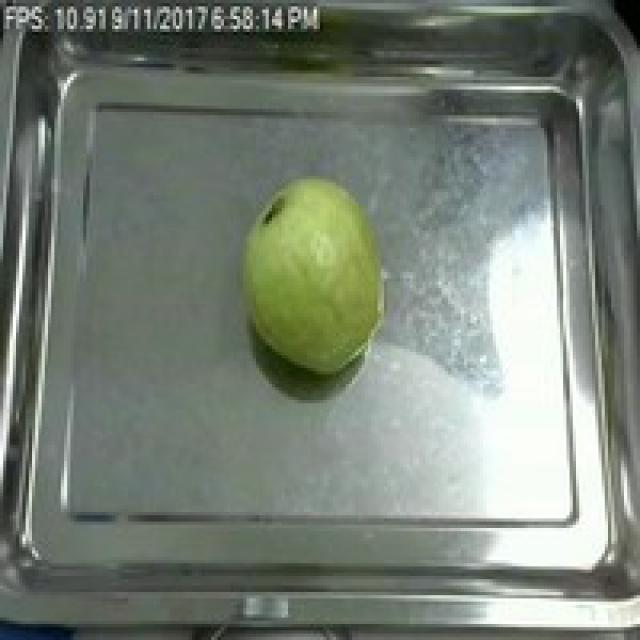Fruit: (230, 166, 394, 381)
